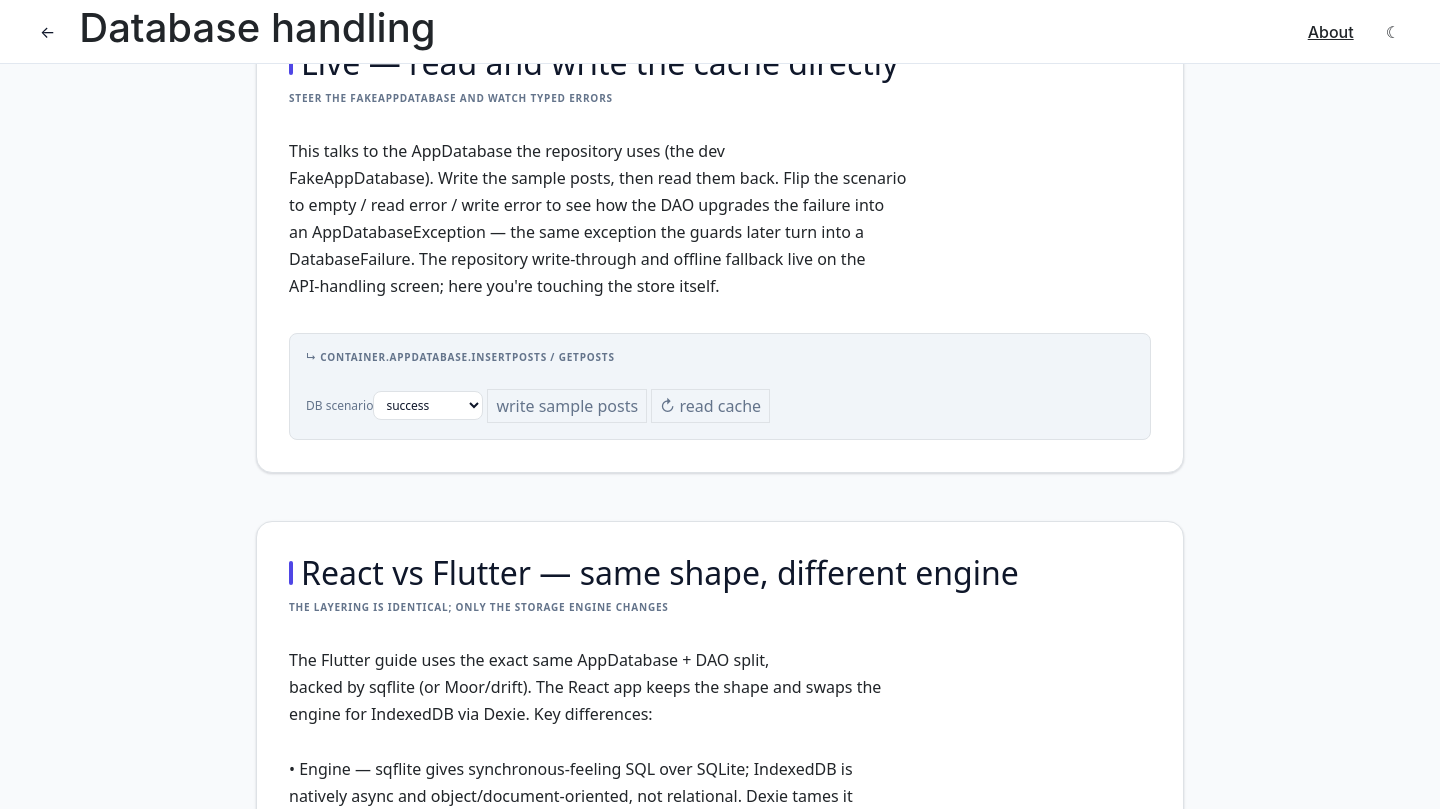
Test case: Database handling screen › writes to the cache and reads the posts back
The image size is (1440, 809).
(page scrolled)
Click the button "write sample posts" at (567, 406), box [487,389,647,423]
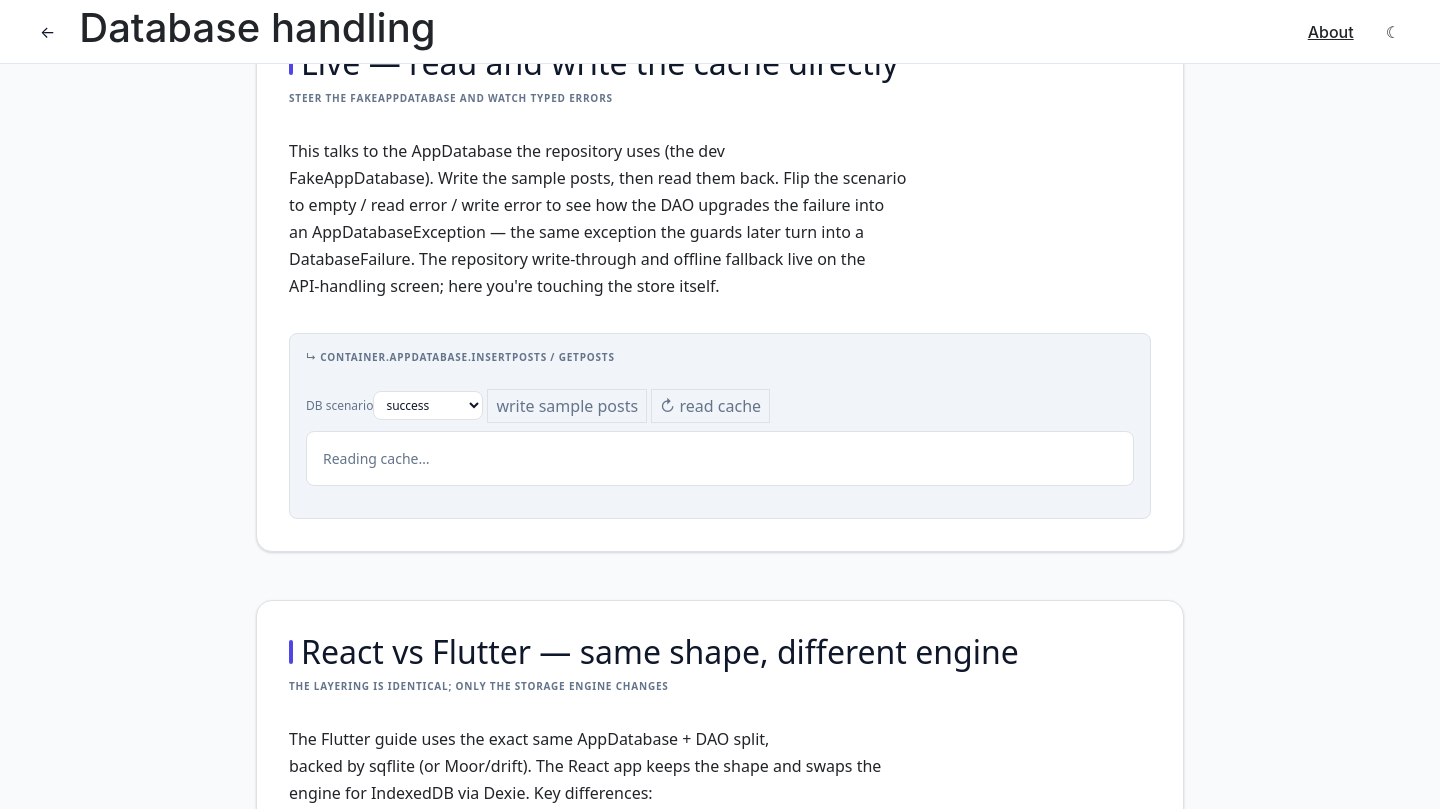
Click the button "↻ read cache" at (711, 406), box [651,389,770,423]
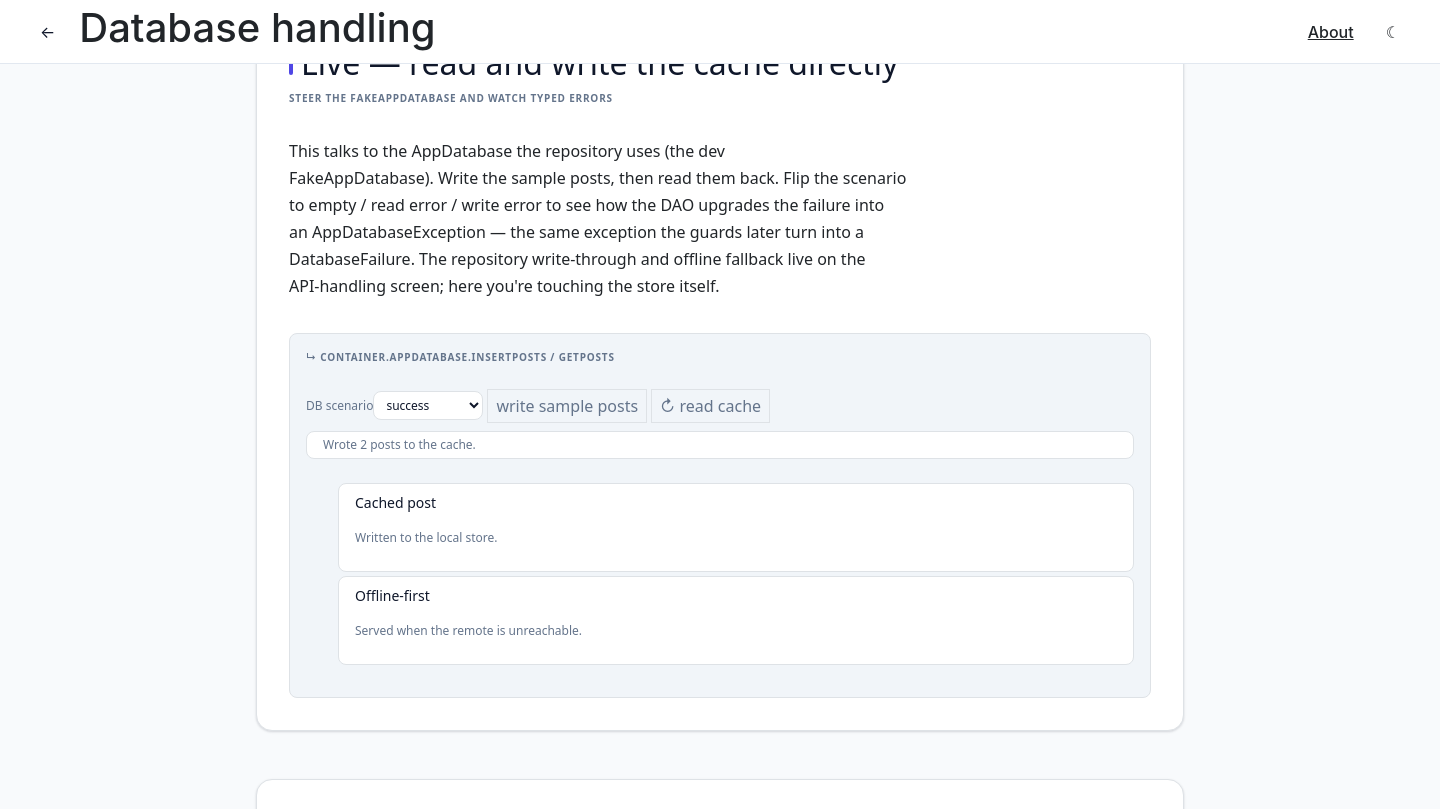
Result: the text "Cached post" is shown at [355,493,436,512]
Result: the text "Offline-first" is shown at [355,586,430,605]
